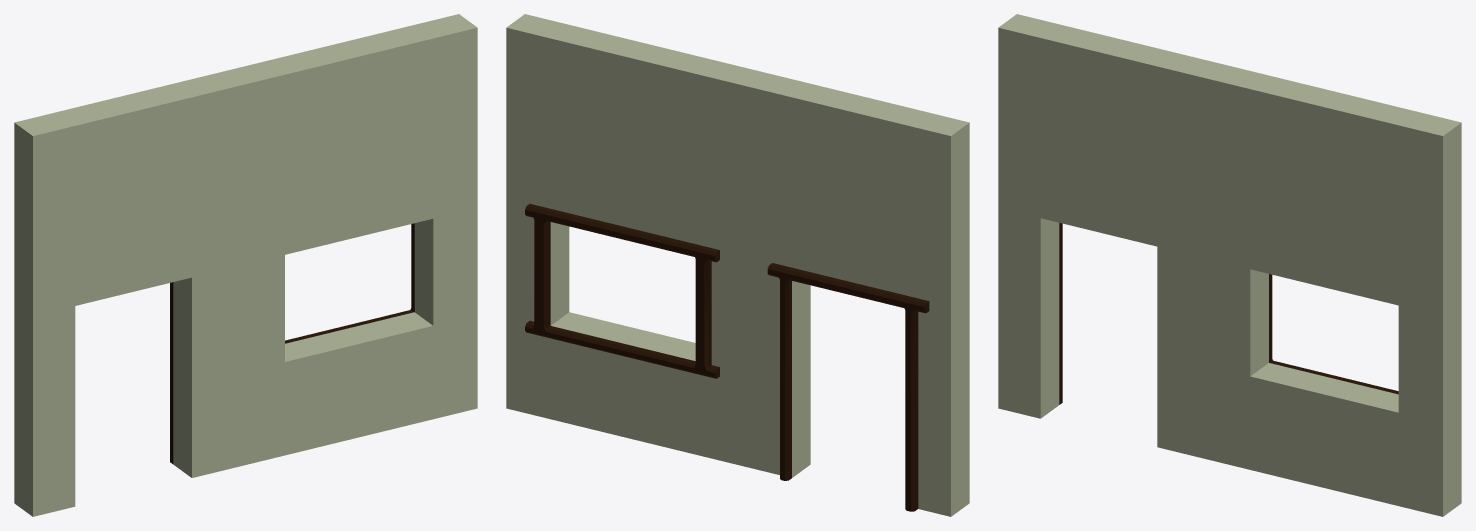
The model's file is Wall_Short02_FBX.fbx.
3 renders of one model, left to right at view 1: azimuth 30°, elevation 25°; view 2: azimuth 150°, elevation 25°; view 3: azimuth 330°, elevation 25°, orthographic.
Visible parts, largest first — view 1: Small wall one window one door002; view 2: Small wall one window one door002; view 3: Small wall one window one door002.
Boxes of the visible parts, bbox=[...] form: Small wall one window one door002: bbox=[14, 14, 477, 516]; Small wall one window one door002: bbox=[506, 14, 969, 516]; Small wall one window one door002: bbox=[998, 14, 1461, 516].
Size of the model in its own units: 550 by 450 by 50.1.
